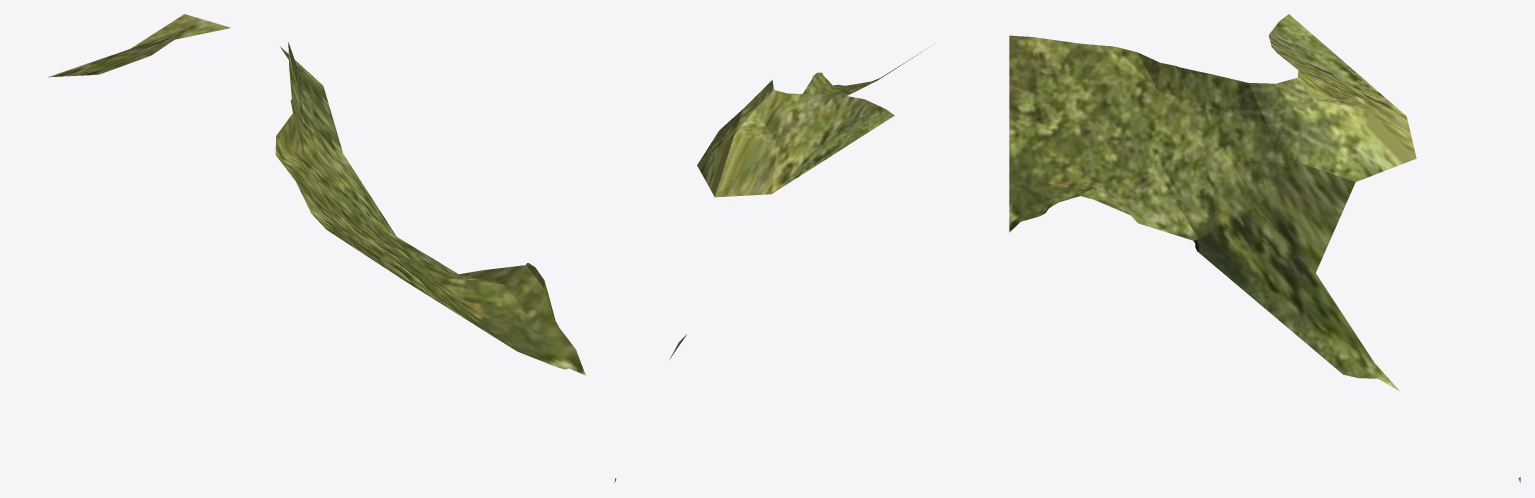
The picture shows the model from 3 angles, left to right: view 1: azimuth 30°, elevation 25°; view 2: azimuth 150°, elevation 25°; view 3: azimuth 270°, elevation 25°; orthographic projection. The views are drawn at different scales.
Bounding box in the file's own units: 2.62 × 4.76 × 5.9.
1 material, 1 textured.
